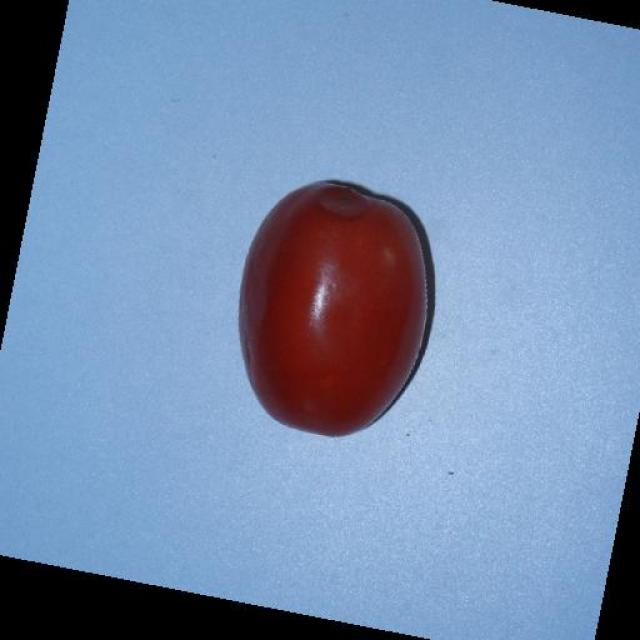Stale_tomato: (230, 172, 430, 458)
